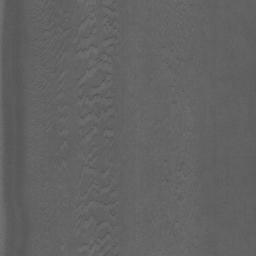Silk spot: (80, 104, 113, 119), (76, 198, 118, 208), (78, 91, 115, 100), (104, 14, 120, 32), (74, 44, 98, 54), (95, 50, 112, 64), (94, 232, 110, 245), (98, 69, 112, 83), (78, 214, 98, 221), (99, 4, 116, 12)
